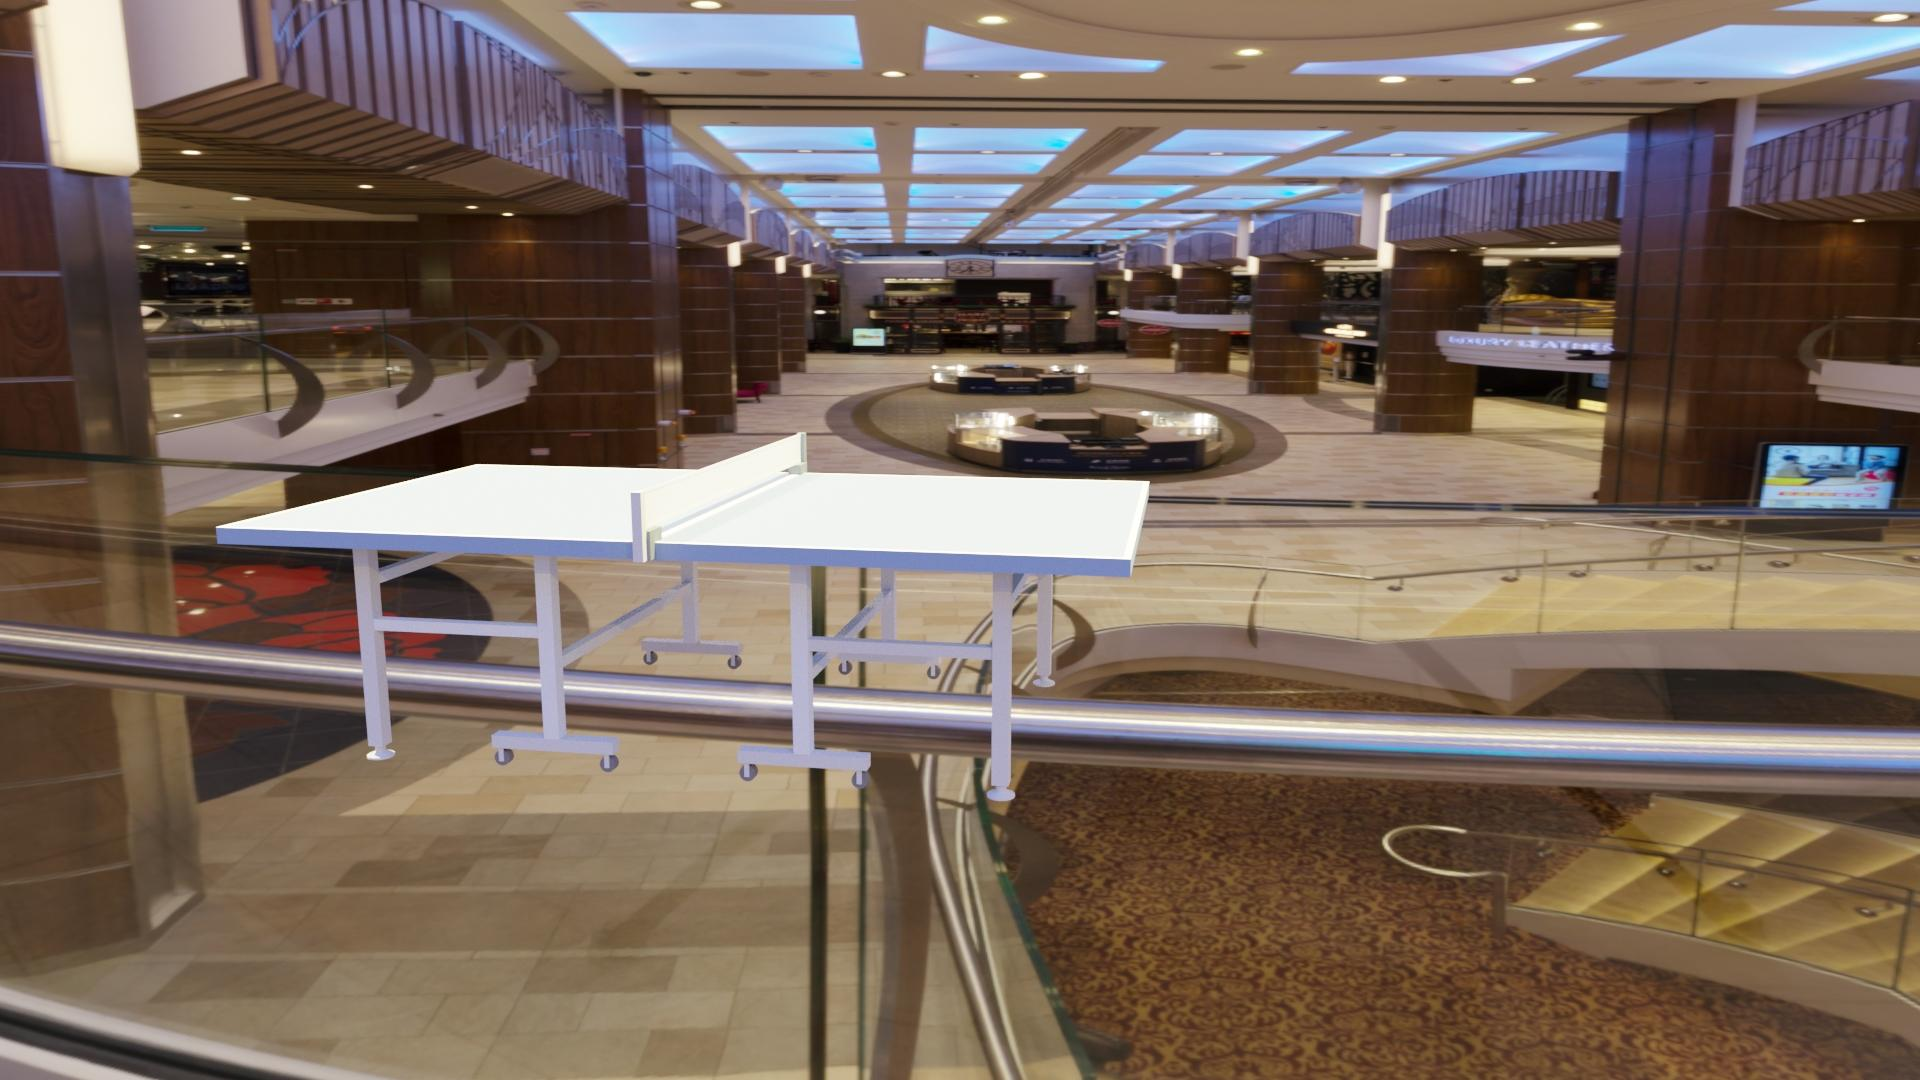table: (227, 465, 1143, 558)
